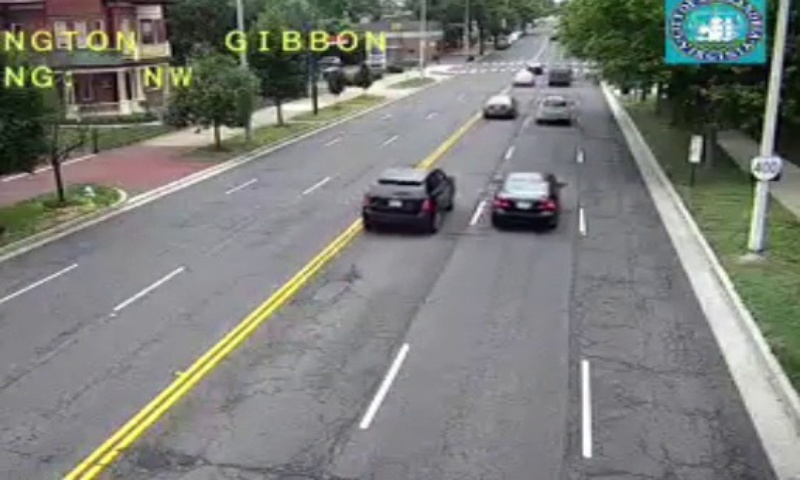car: (361, 167, 454, 231), (493, 171, 558, 224), (482, 94, 516, 119), (536, 96, 568, 122)
